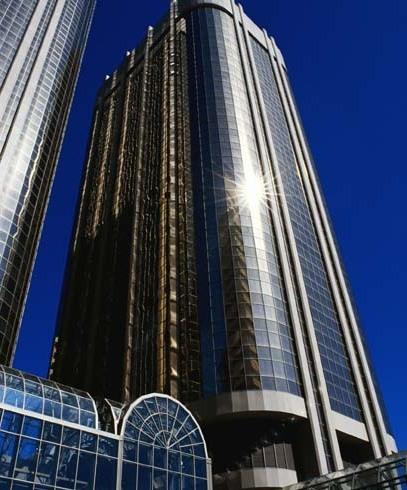building: (49, 0, 406, 490), (0, 0, 100, 371)
